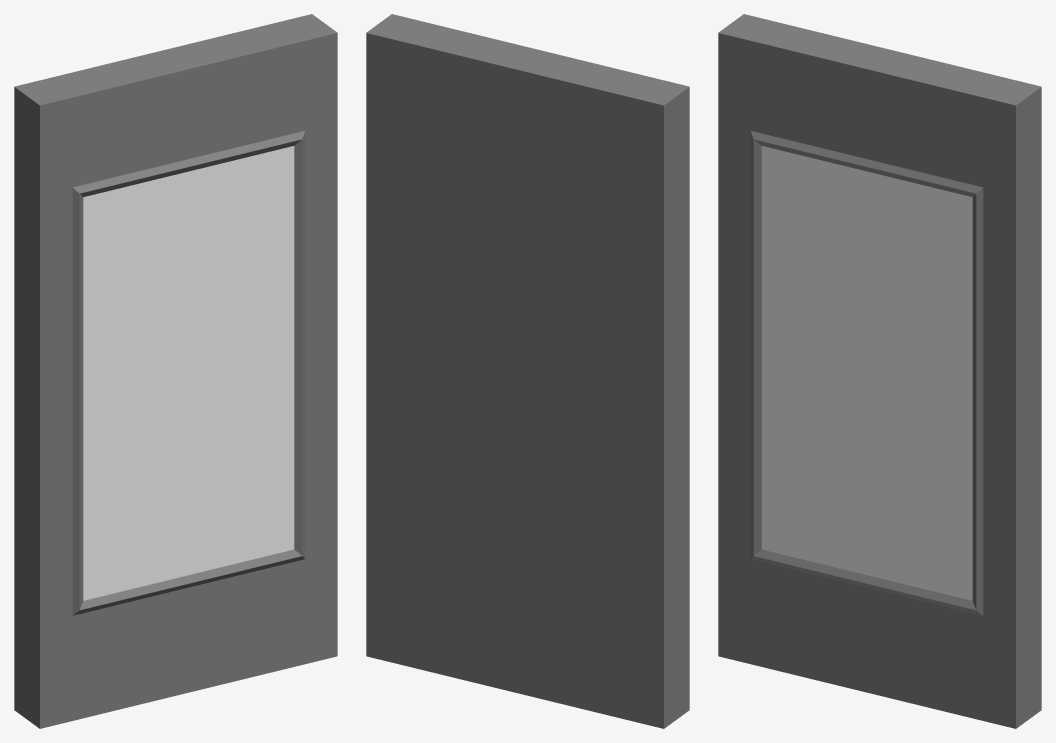
Rendered from GreyGalleryInfo.glb.
3 views of the same model, side by side, from view 1: azimuth 30°, elevation 25°; view 2: azimuth 150°, elevation 25°; view 3: azimuth 330°, elevation 25° (orthographic).
Visible parts, largest first — view 1: galleryInfo_grey; view 2: galleryInfo_grey; view 3: galleryInfo_grey.
Boxes of the visible parts, x1=… form: galleryInfo_grey: x1=14, y1=14, x2=337, y2=728; galleryInfo_grey: x1=366, y1=14, x2=689, y2=728; galleryInfo_grey: x1=718, y1=14, x2=1041, y2=728.
Size of what is drawn, in the model's own units: 2 by 4 by 0.3245.
1 material, 1 textured.
